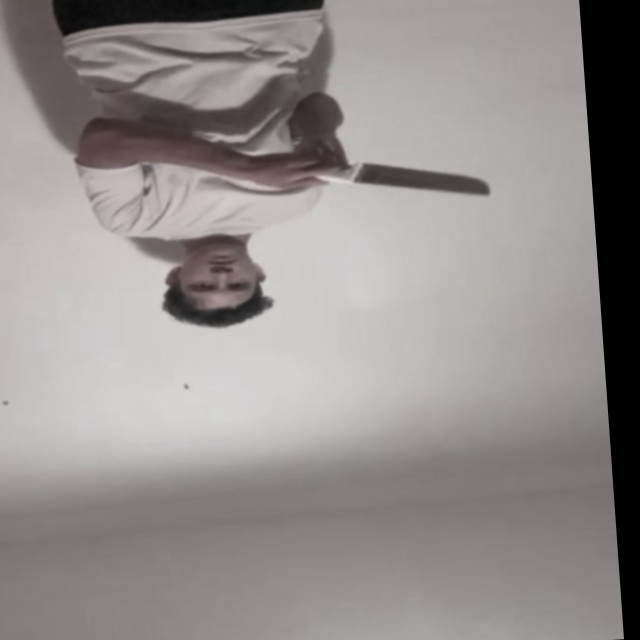Sharp-Object: (360, 155, 489, 207)
